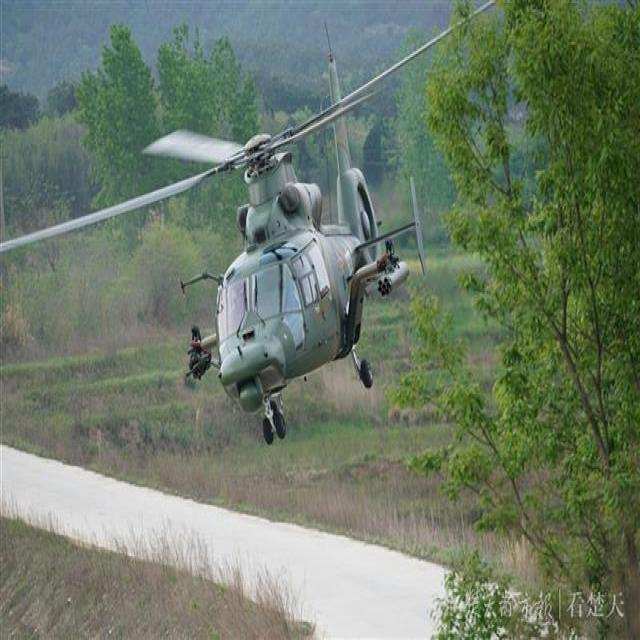MIL_HELO: (0, 0, 533, 440)
